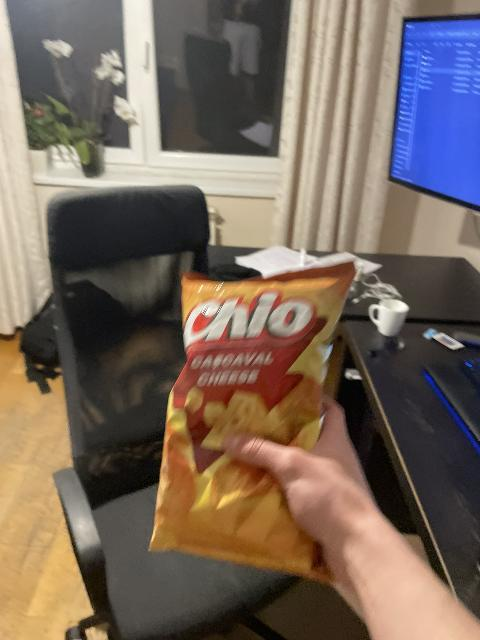Chio Cascaval 125g: (149, 263, 357, 580)
